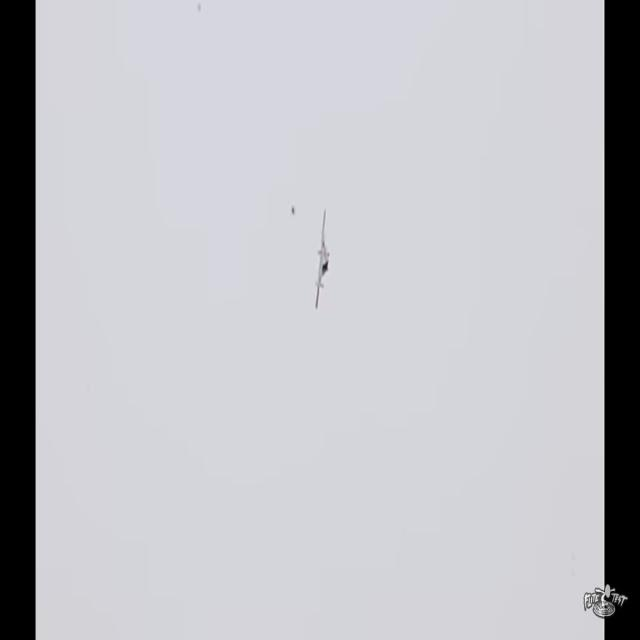iha: (314, 237, 330, 280)
